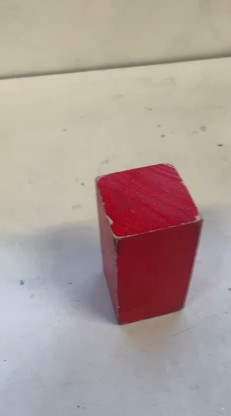red: (104, 162, 196, 314)
